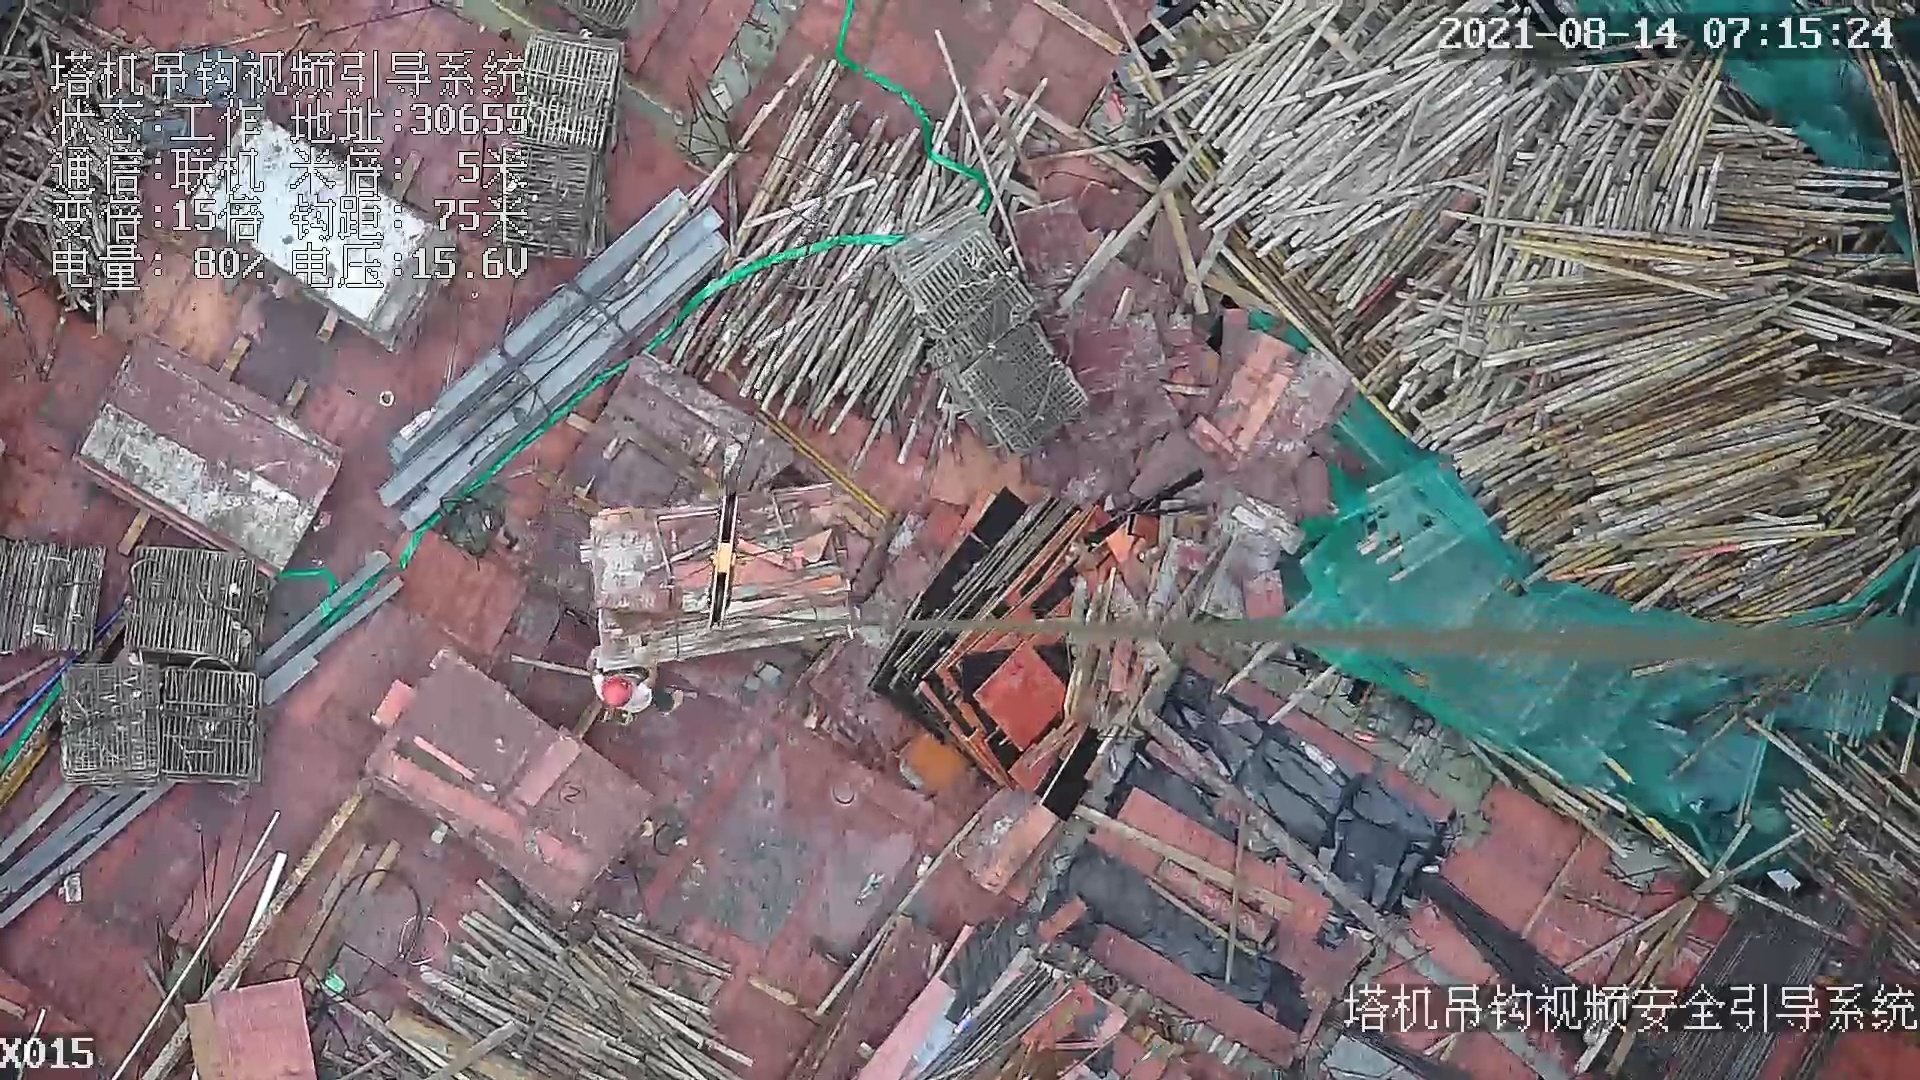helmet: (597, 668, 641, 708)
hook: (696, 486, 741, 631)
person: (585, 656, 681, 733)
